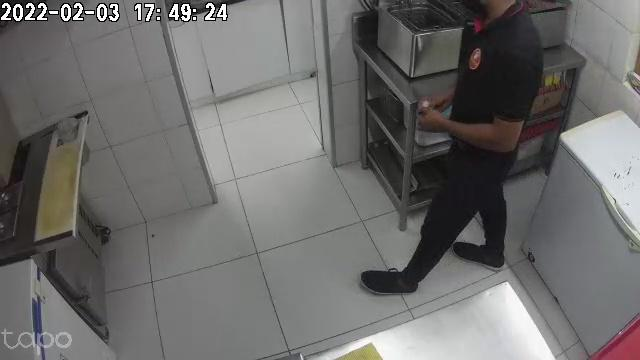no_gloves: (417, 108, 456, 132)
